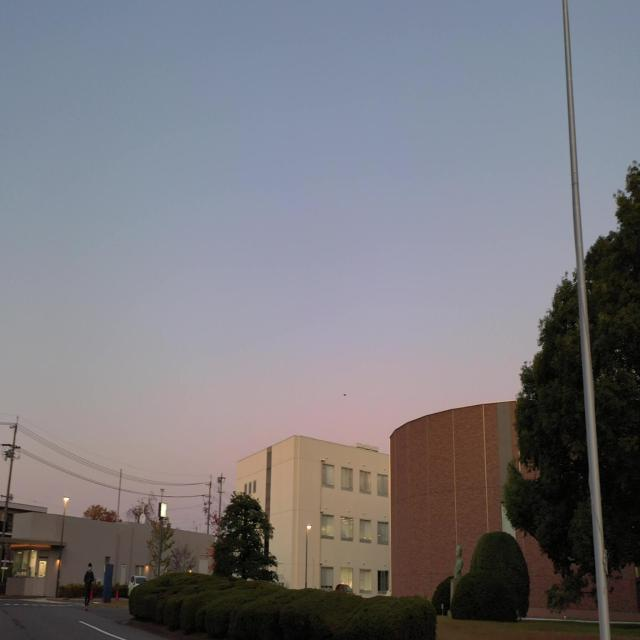Birds: (341, 390, 349, 398)
